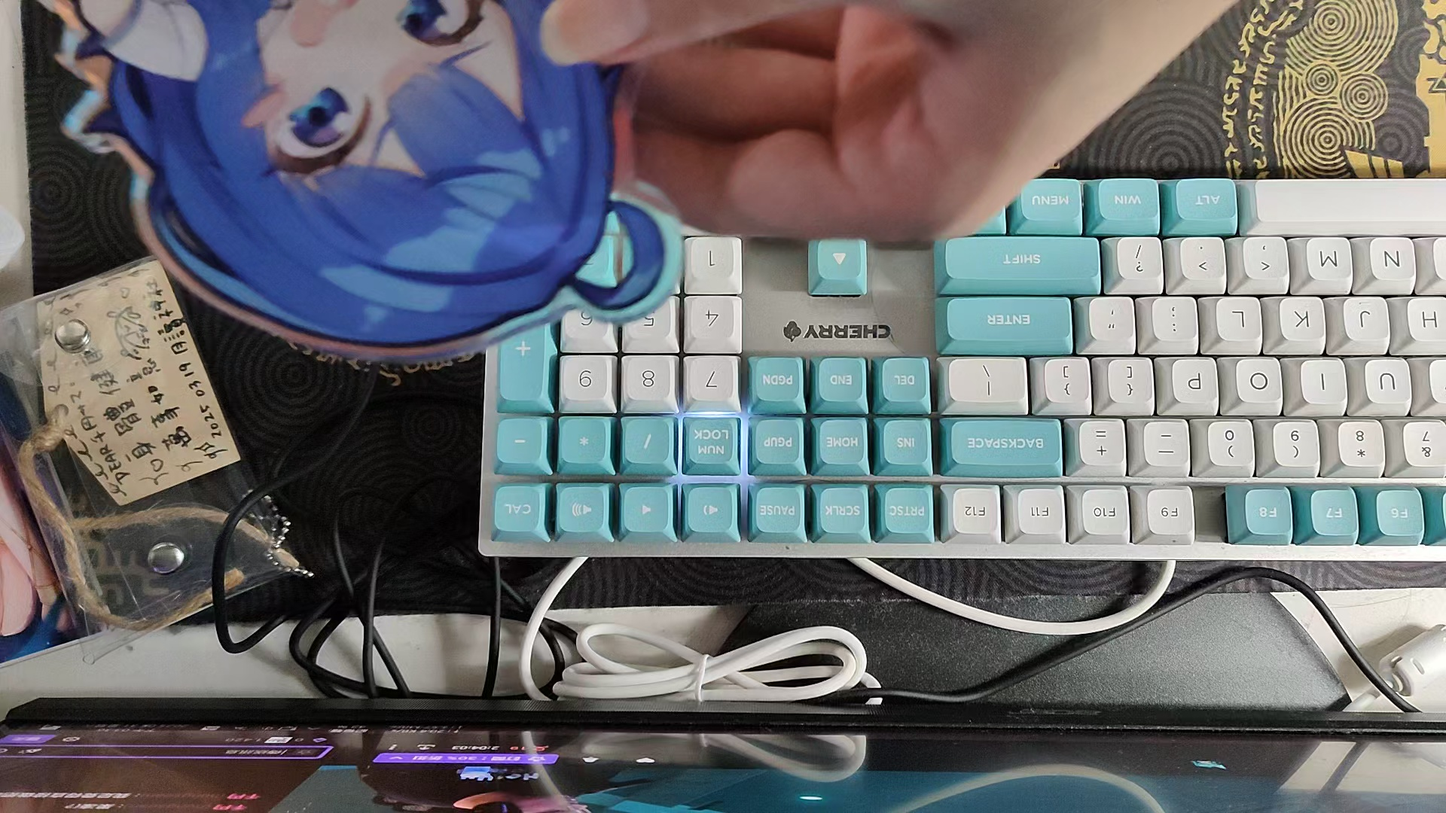Yanami-anna: (53, 0, 686, 364)
